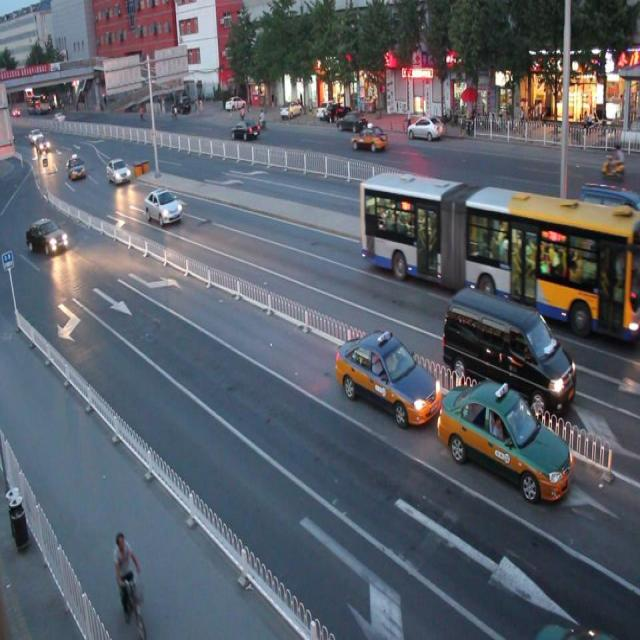car: (437, 381, 571, 502), (335, 329, 440, 426), (144, 187, 183, 226), (350, 124, 388, 153), (230, 120, 260, 142)
truck: (442, 286, 575, 411), (578, 180, 640, 241)
van: (358, 170, 640, 343)
